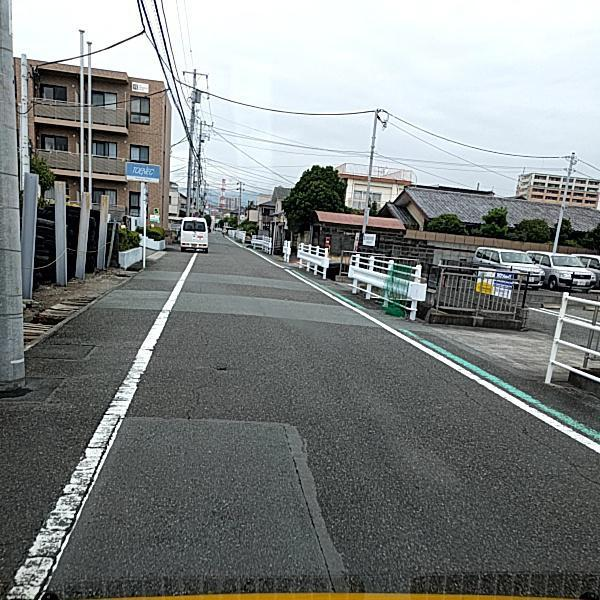D00: (416, 354, 599, 487), (179, 379, 207, 418)
D44: (0, 344, 144, 599)
